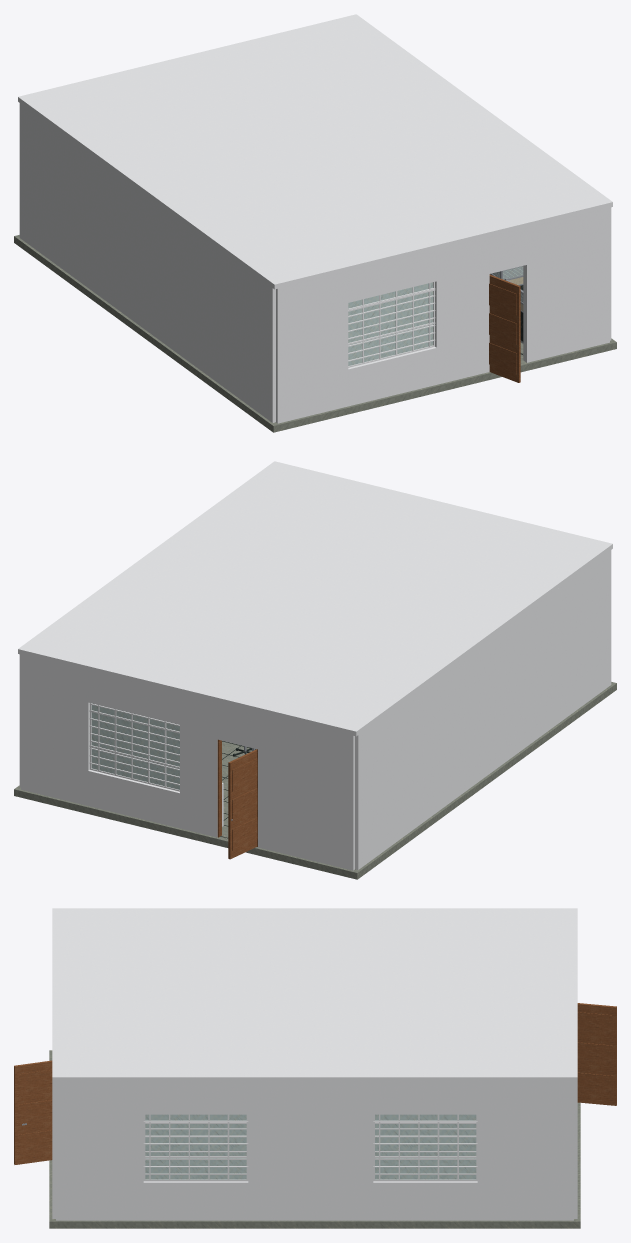
Rendered from Ruangan Dosen.obj.
3 renders of one model, top to bottom at view 1: azimuth 30°, elevation 25°; view 2: azimuth 150°, elevation 25°; view 3: azimuth 270°, elevation 25°, orthographic. The views are drawn at different scales.
Parts seen in each view (by area): view 1: 09_Plafon_dan_Balok, 03_Dinding_Belakang, 04_Dinding_Kiri, 06_Jendela_Berkisi, 01_Lantai, 08_Pintu_Belakang; view 2: 09_Plafon_dan_Balok, 02_Dinding_Depan, 04_Dinding_Kiri, 01_Lantai, 06_Jendela_Berkisi, 07_Pintu_Masuk; view 3: 09_Plafon_dan_Balok, 05_Dinding_Kanan, 06_Jendela_Berkisi, 01_Lantai, 07_Pintu_Masuk, 08_Pintu_Belakang, 02_Dinding_Depan, 03_Dinding_Belakang.
Part boxes in pixels (x1=…): 09_Plafon_dan_Balok: x1=18, y1=14, x2=612, y2=289; 03_Dinding_Belakang: x1=276, y1=207, x2=609, y2=423; 04_Dinding_Kiri: x1=19, y1=103, x2=275, y2=422; 06_Jendela_Berkisi: x1=348, y1=282, x2=435, y2=367; 01_Lantai: x1=14, y1=235, x2=616, y2=432; 08_Pintu_Belakang: x1=489, y1=274, x2=520, y2=382; 09_Plafon_dan_Balok: x1=18, y1=461, x2=612, y2=736; 02_Dinding_Depan: x1=21, y1=654, x2=354, y2=870; 04_Dinding_Kiri: x1=355, y1=550, x2=611, y2=869; 01_Lantai: x1=14, y1=682, x2=616, y2=879; 06_Jendela_Berkisi: x1=89, y1=703, x2=179, y2=791; 07_Pintu_Masuk: x1=217, y1=739, x2=257, y2=859; 09_Plafon_dan_Balok: x1=52, y1=908, x2=577, y2=1082; 05_Dinding_Kanan: x1=56, y1=1082, x2=573, y2=1220; 06_Jendela_Berkisi: x1=143, y1=1114, x2=477, y2=1181; 01_Lantai: x1=49, y1=1050, x2=580, y2=1228; 07_Pintu_Masuk: x1=577, y1=1003, x2=616, y2=1105; 08_Pintu_Belakang: x1=14, y1=1060, x2=52, y2=1164; 02_Dinding_Depan: x1=574, y1=1082, x2=577, y2=1218; 03_Dinding_Belakang: x1=52, y1=1082, x2=55, y2=1218.
Bounding box in the file's own units: 9.72 × 3.96 × 14.44.
Materials: 13 (13 with a texture image).
